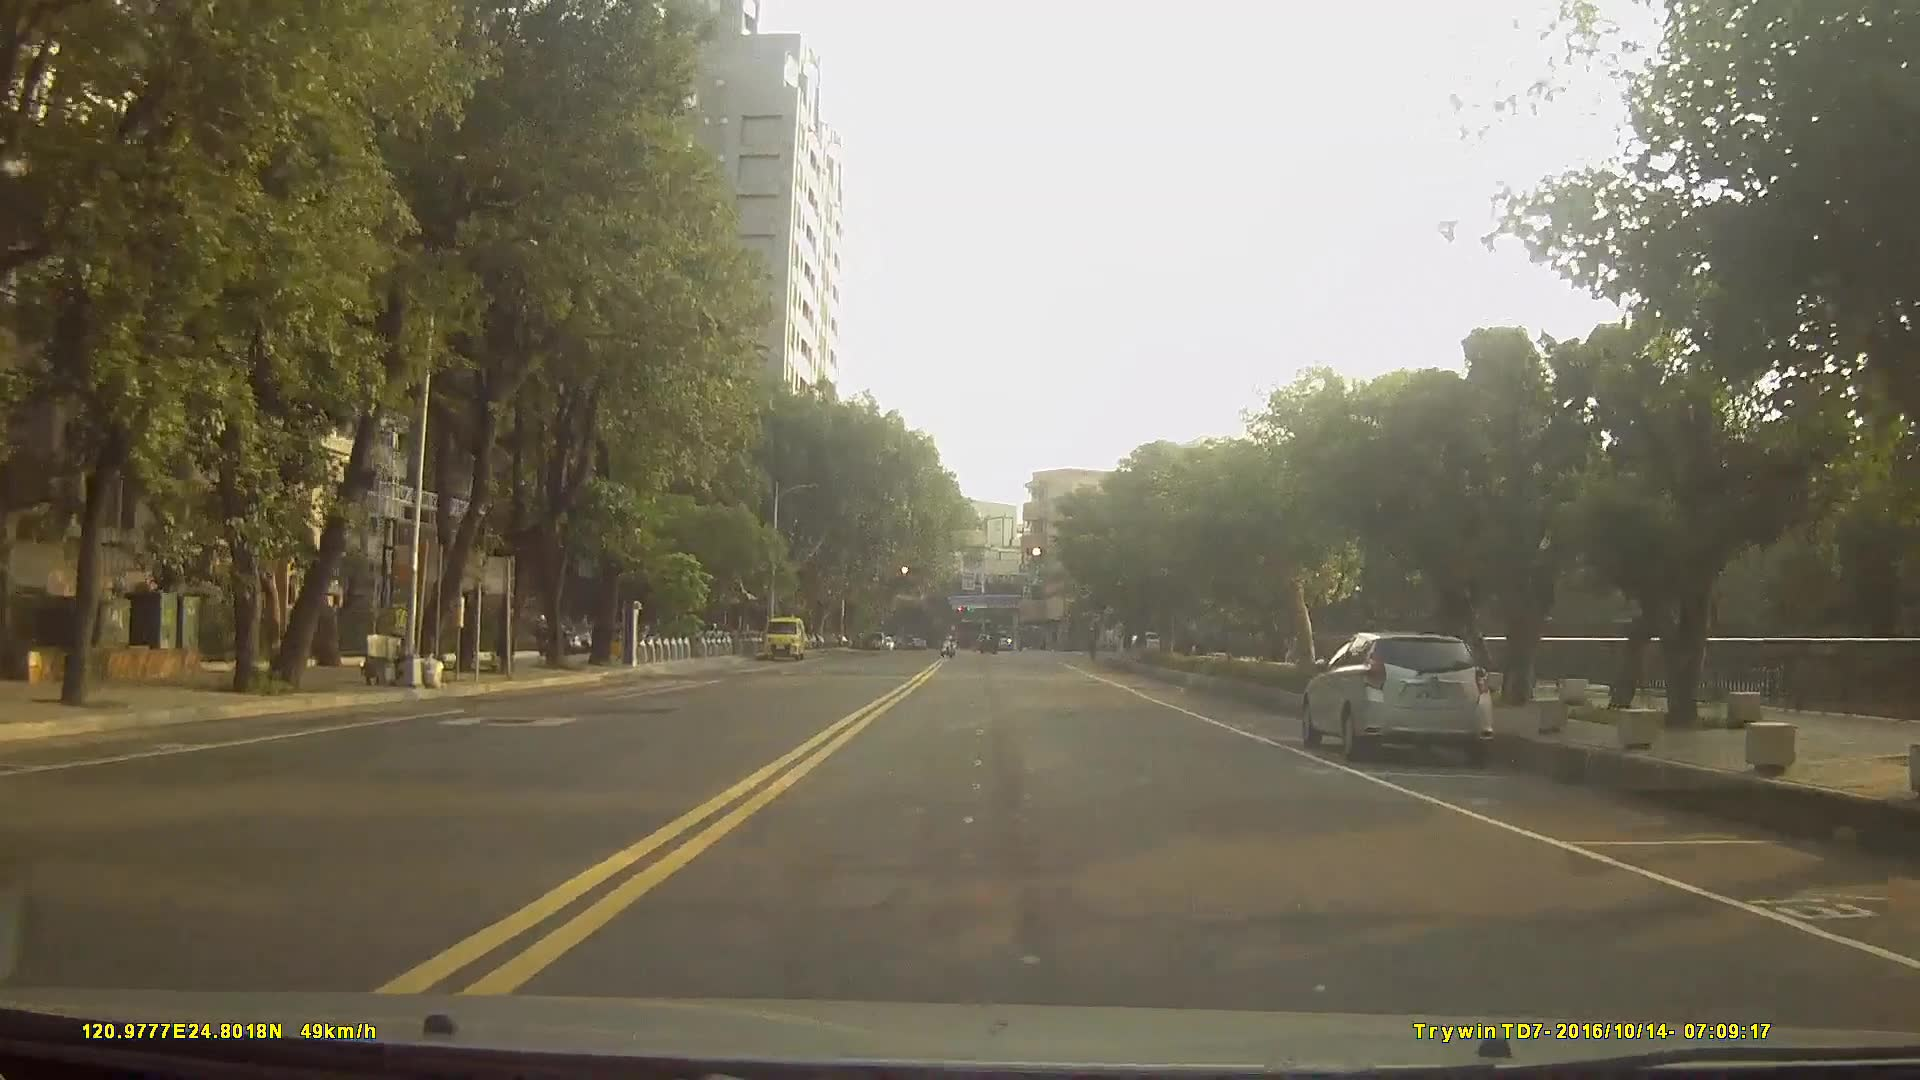rider: (941, 624, 963, 660)
vehicle: (1295, 631, 1498, 773), (987, 631, 1014, 656)
